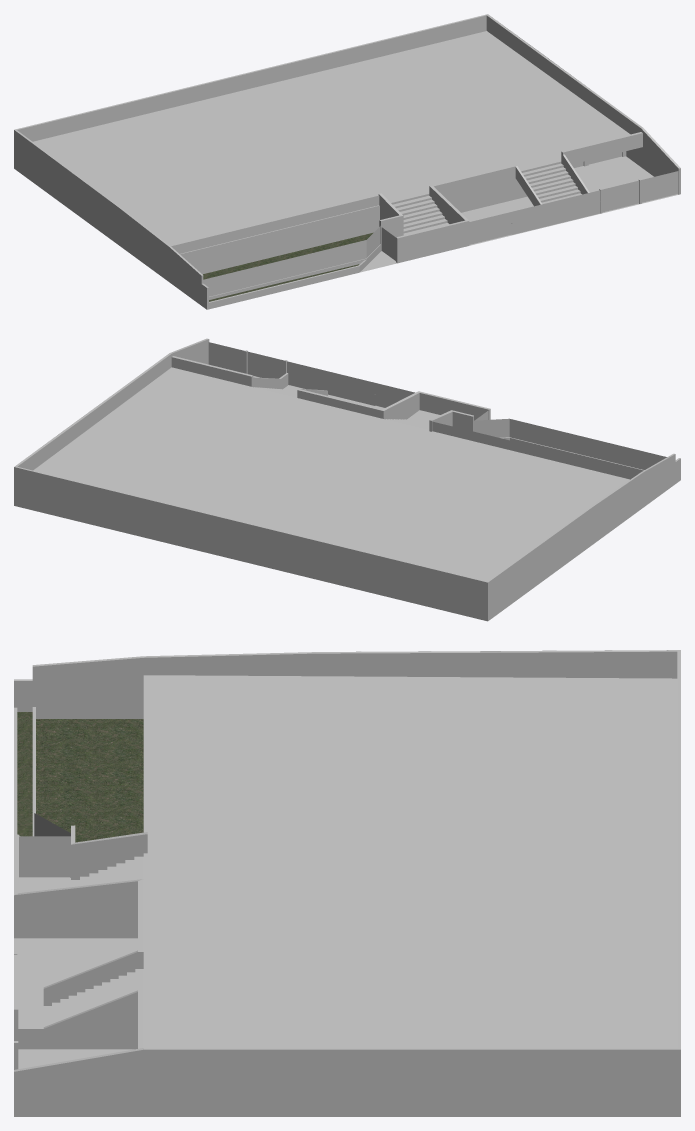
3 renders of one model, top to bottom at view 1: azimuth 30°, elevation 25°; view 2: azimuth 150°, elevation 25°; view 3: azimuth 270°, elevation 25°, orthographic. The views are drawn at different scales.
Parts seen in each view (by area): view 1: Base-06-B; view 2: Base-06-B; view 3: Base-06-B.
Part boxes in pixels (x1,y1,x2,y2): Base-06-B: [14, 14, 680, 309]; Base-06-B: [14, 338, 680, 621]; Base-06-B: [14, 650, 680, 1116].
Size of what is drawn, in the model's own units: 51.04 by 4 by 36.
